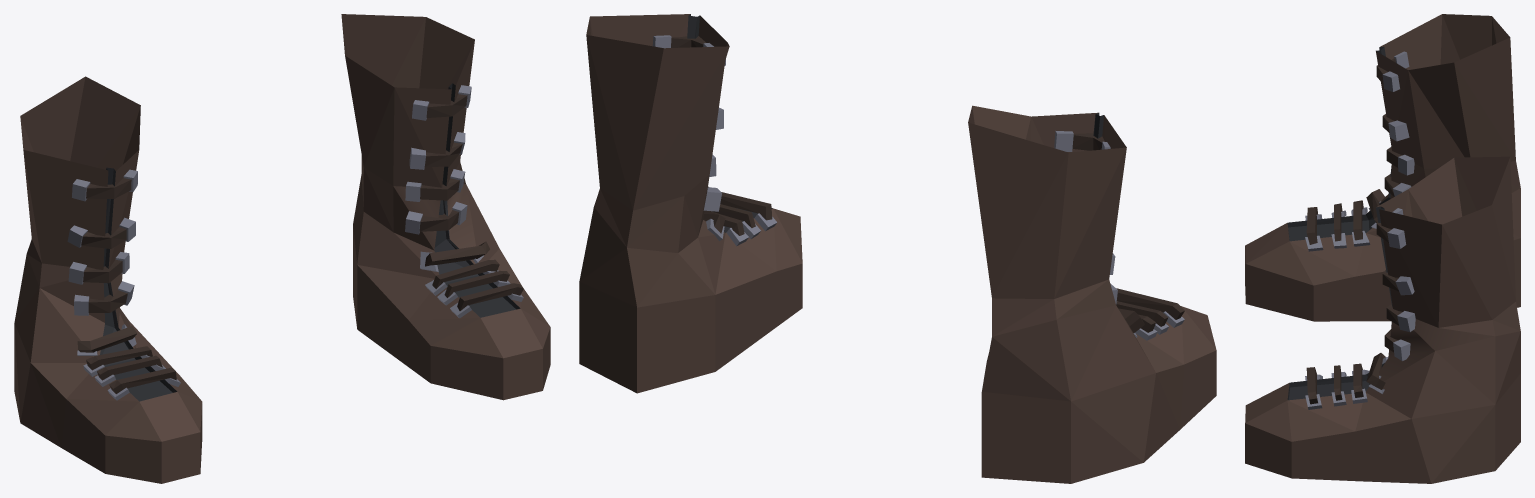
Rendered from FemaleMageFeet.dae.
3 views of the same model, side by side, from view 1: azimuth 30°, elevation 25°; view 2: azimuth 150°, elevation 25°; view 3: azimuth 270°, elevation 25° (orthographic). The views are drawn at different scales.
Visible parts, largest first — view 1: FemaleFeet; view 2: FemaleFeet; view 3: FemaleFeet.
Boxes of the visible parts, bbox=[...] form: FemaleFeet: bbox=[14, 14, 550, 483]; FemaleFeet: bbox=[579, 14, 1216, 483]; FemaleFeet: bbox=[1245, 14, 1520, 483].
Bounding box in the file's own units: 2.62 × 1.4 × 1.55.
